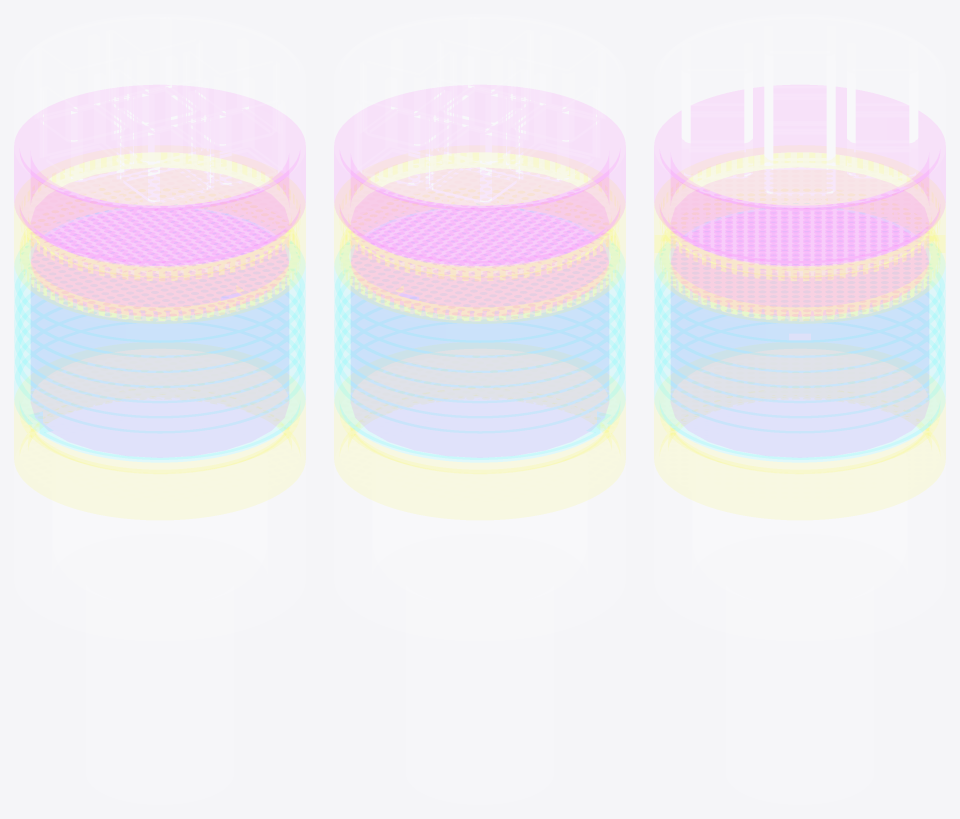
Rendered from trial.glb.
3 renders of one model, left to right at view 1: azimuth 30°, elevation 25°; view 2: azimuth 150°, elevation 25°; view 3: azimuth 270°, elevation 25°, orthographic.
Visible parts, largest first — view 1: av_1_impr_1_LV_TopCap_PMTs_pv_9, av_1_impr_1_LV_Polythelne_Sheeth_pv_4, av_1_impr_1_LV_Bottom_PMT_Cap_pv_1, av_1_impr_1_LV_ESepRing_SteelRings_pv_8, av_1_impr_1_LV_TopSpacer_pv_7, av_1_impr_1_LV_ESepRingNoOpen_SteelRings_pv_10; view 2: av_1_impr_1_LV_TopCap_PMTs_pv_9, av_1_impr_1_LV_Polythelne_Sheeth_pv_4, av_1_impr_1_LV_Bottom_PMT_Cap_pv_1, av_1_impr_1_LV_ESepRing_SteelRings_pv_8, av_1_impr_1_LV_TopSpacer_pv_7, av_1_impr_1_LV_ESepRingNoOpen_SteelRings_pv_10; view 3: av_1_impr_1_LV_Polythelne_Sheeth_pv_4, av_1_impr_1_LV_TopCap_PMTs_pv_9, av_1_impr_1_LV_Bottom_PMT_Cap_pv_1, av_1_impr_1_LV_ESepRing_SteelRings_pv_8, av_1_impr_1_LV_TopSpacer_pv_7, av_1_impr_1_LV_ESepRingNoOpen_SteelRings_pv_10.
Part boxes in pixels (x1=…): av_1_impr_1_LV_TopCap_PMTs_pv_9: x1=20, y1=17, x2=299, y2=203; av_1_impr_1_LV_Polythelne_Sheeth_pv_4: x1=15, y1=211, x2=304, y2=459; av_1_impr_1_LV_Bottom_PMT_Cap_pv_1: x1=20, y1=408, x2=299, y2=573; av_1_impr_1_LV_ESepRing_SteelRings_pv_8: x1=20, y1=153, x2=300, y2=320; av_1_impr_1_LV_TopSpacer_pv_7: x1=20, y1=153, x2=299, y2=262; av_1_impr_1_LV_ESepRingNoOpen_SteelRings_pv_10: x1=20, y1=388, x2=299, y2=473; av_1_impr_1_LV_TopCap_PMTs_pv_9: x1=340, y1=17, x2=619, y2=203; av_1_impr_1_LV_Polythelne_Sheeth_pv_4: x1=335, y1=209, x2=624, y2=459; av_1_impr_1_LV_Bottom_PMT_Cap_pv_1: x1=340, y1=403, x2=619, y2=573; av_1_impr_1_LV_ESepRing_SteelRings_pv_8: x1=339, y1=153, x2=619, y2=320; av_1_impr_1_LV_TopSpacer_pv_7: x1=340, y1=153, x2=619, y2=262; av_1_impr_1_LV_ESepRingNoOpen_SteelRings_pv_10: x1=340, y1=388, x2=619, y2=473; av_1_impr_1_LV_Polythelne_Sheeth_pv_4: x1=655, y1=244, x2=944, y2=459; av_1_impr_1_LV_TopCap_PMTs_pv_9: x1=660, y1=17, x2=939, y2=195; av_1_impr_1_LV_Bottom_PMT_Cap_pv_1: x1=660, y1=428, x2=939, y2=573; av_1_impr_1_LV_ESepRing_SteelRings_pv_8: x1=655, y1=153, x2=945, y2=320; av_1_impr_1_LV_TopSpacer_pv_7: x1=660, y1=154, x2=939, y2=262; av_1_impr_1_LV_ESepRingNoOpen_SteelRings_pv_10: x1=660, y1=391, x2=939, y2=473.
Size of the model in its own units: 105 by 278 by 105.
